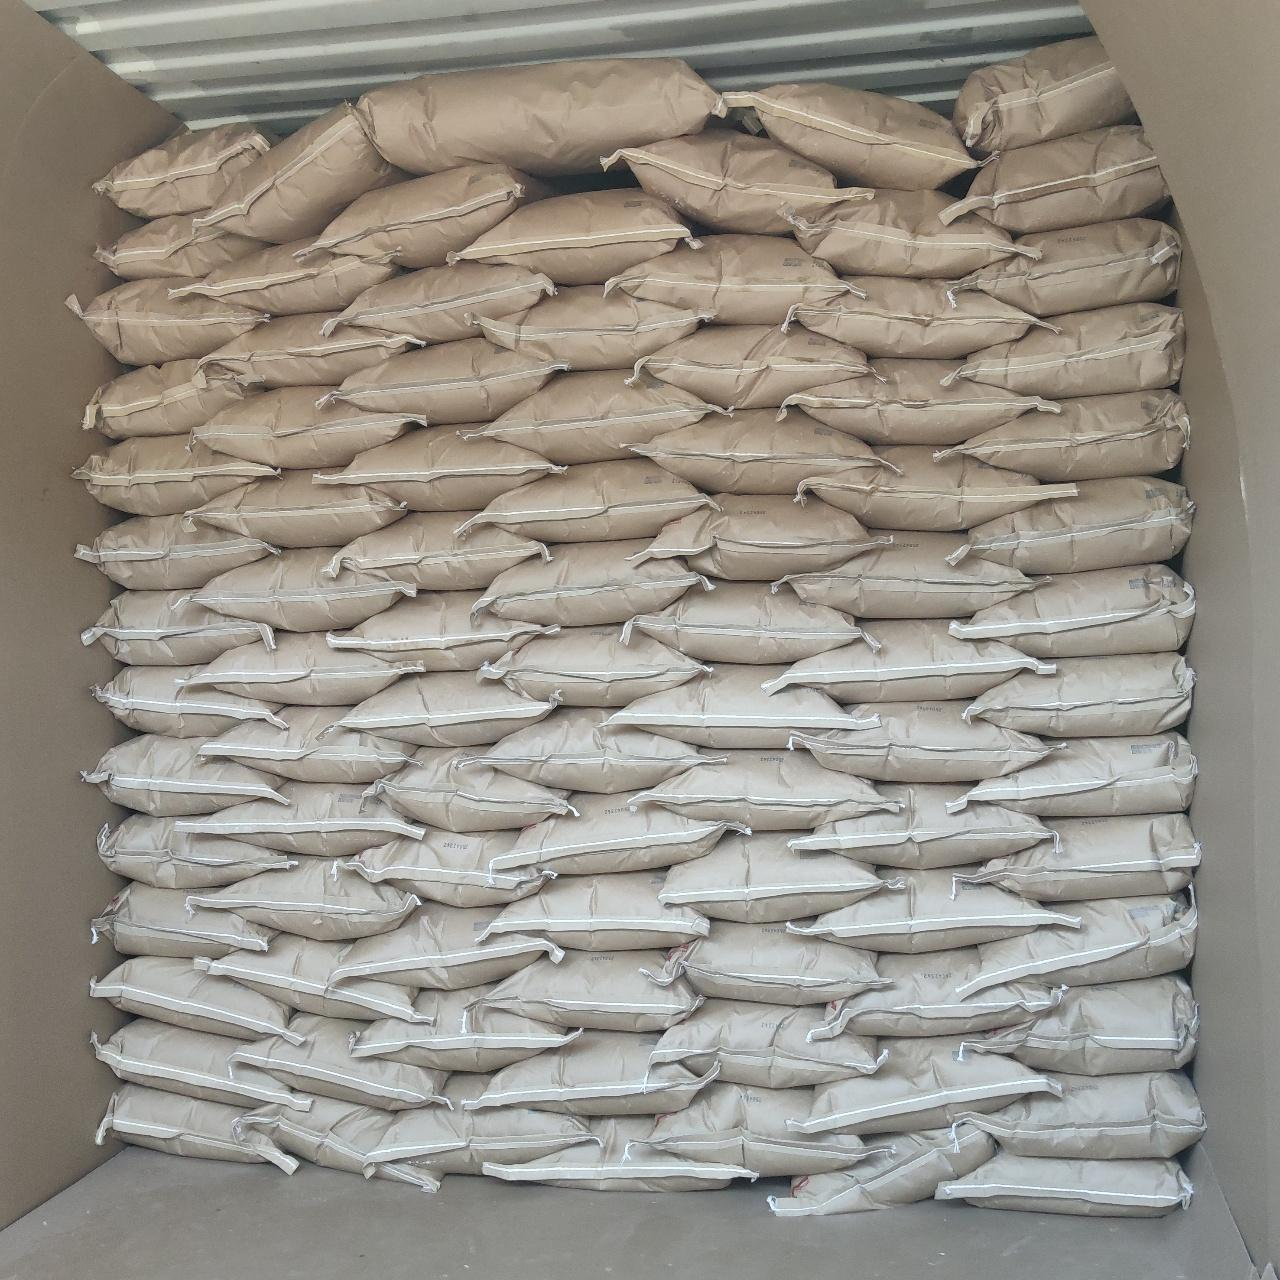sack: (358, 57, 719, 173), (200, 104, 402, 240), (604, 130, 866, 232), (297, 162, 552, 266), (724, 84, 976, 188), (794, 1036, 1051, 1133), (787, 869, 1076, 949), (942, 124, 1164, 230), (964, 974, 1196, 1073), (810, 948, 1062, 1039), (450, 190, 692, 284), (798, 445, 1076, 526), (948, 220, 1180, 316), (774, 532, 1044, 614), (937, 390, 1189, 478), (782, 360, 1051, 442), (602, 666, 872, 748), (952, 566, 1196, 656), (966, 894, 1194, 990), (482, 370, 722, 462), (370, 1076, 592, 1175), (792, 784, 1050, 869), (772, 622, 1050, 700), (966, 478, 1192, 572), (794, 190, 1034, 278), (956, 36, 1132, 156), (958, 813, 1198, 900), (604, 236, 844, 322), (958, 304, 1182, 396), (459, 710, 719, 790), (320, 425, 564, 510), (195, 934, 428, 1022), (318, 338, 558, 422), (236, 1014, 445, 1110), (636, 750, 888, 830), (952, 731, 1196, 813), (772, 1124, 994, 1214), (792, 702, 1050, 779), (792, 278, 1044, 356), (648, 1084, 866, 1175), (651, 1000, 880, 1085), (496, 794, 745, 872), (632, 324, 870, 406), (634, 410, 872, 492), (976, 1073, 1204, 1158), (481, 538, 710, 622), (190, 856, 418, 940), (474, 459, 708, 542), (354, 983, 576, 1070), (342, 903, 560, 990), (648, 493, 874, 578), (663, 832, 886, 918), (624, 583, 862, 662), (484, 1118, 754, 1189), (238, 1096, 438, 1190), (476, 1032, 704, 1114), (654, 922, 881, 1005), (190, 388, 422, 468), (94, 1017, 306, 1104), (968, 652, 1192, 734), (474, 872, 708, 949), (478, 626, 708, 704), (328, 592, 558, 670), (184, 779, 420, 855), (481, 286, 702, 366), (332, 263, 552, 342), (322, 512, 549, 590), (195, 550, 414, 629), (488, 949, 700, 1030), (336, 828, 554, 906), (365, 748, 572, 830), (91, 958, 300, 1039), (98, 1084, 294, 1170), (94, 122, 274, 215), (196, 706, 414, 782), (188, 632, 422, 702), (190, 470, 406, 546), (72, 282, 268, 365), (200, 314, 422, 386), (938, 1152, 1190, 1214), (82, 736, 284, 813), (74, 434, 275, 510), (342, 672, 554, 742), (170, 246, 396, 312), (76, 516, 275, 588), (98, 813, 294, 886), (90, 881, 274, 958), (82, 590, 274, 662), (82, 360, 258, 436), (94, 666, 284, 734), (96, 216, 263, 278)
